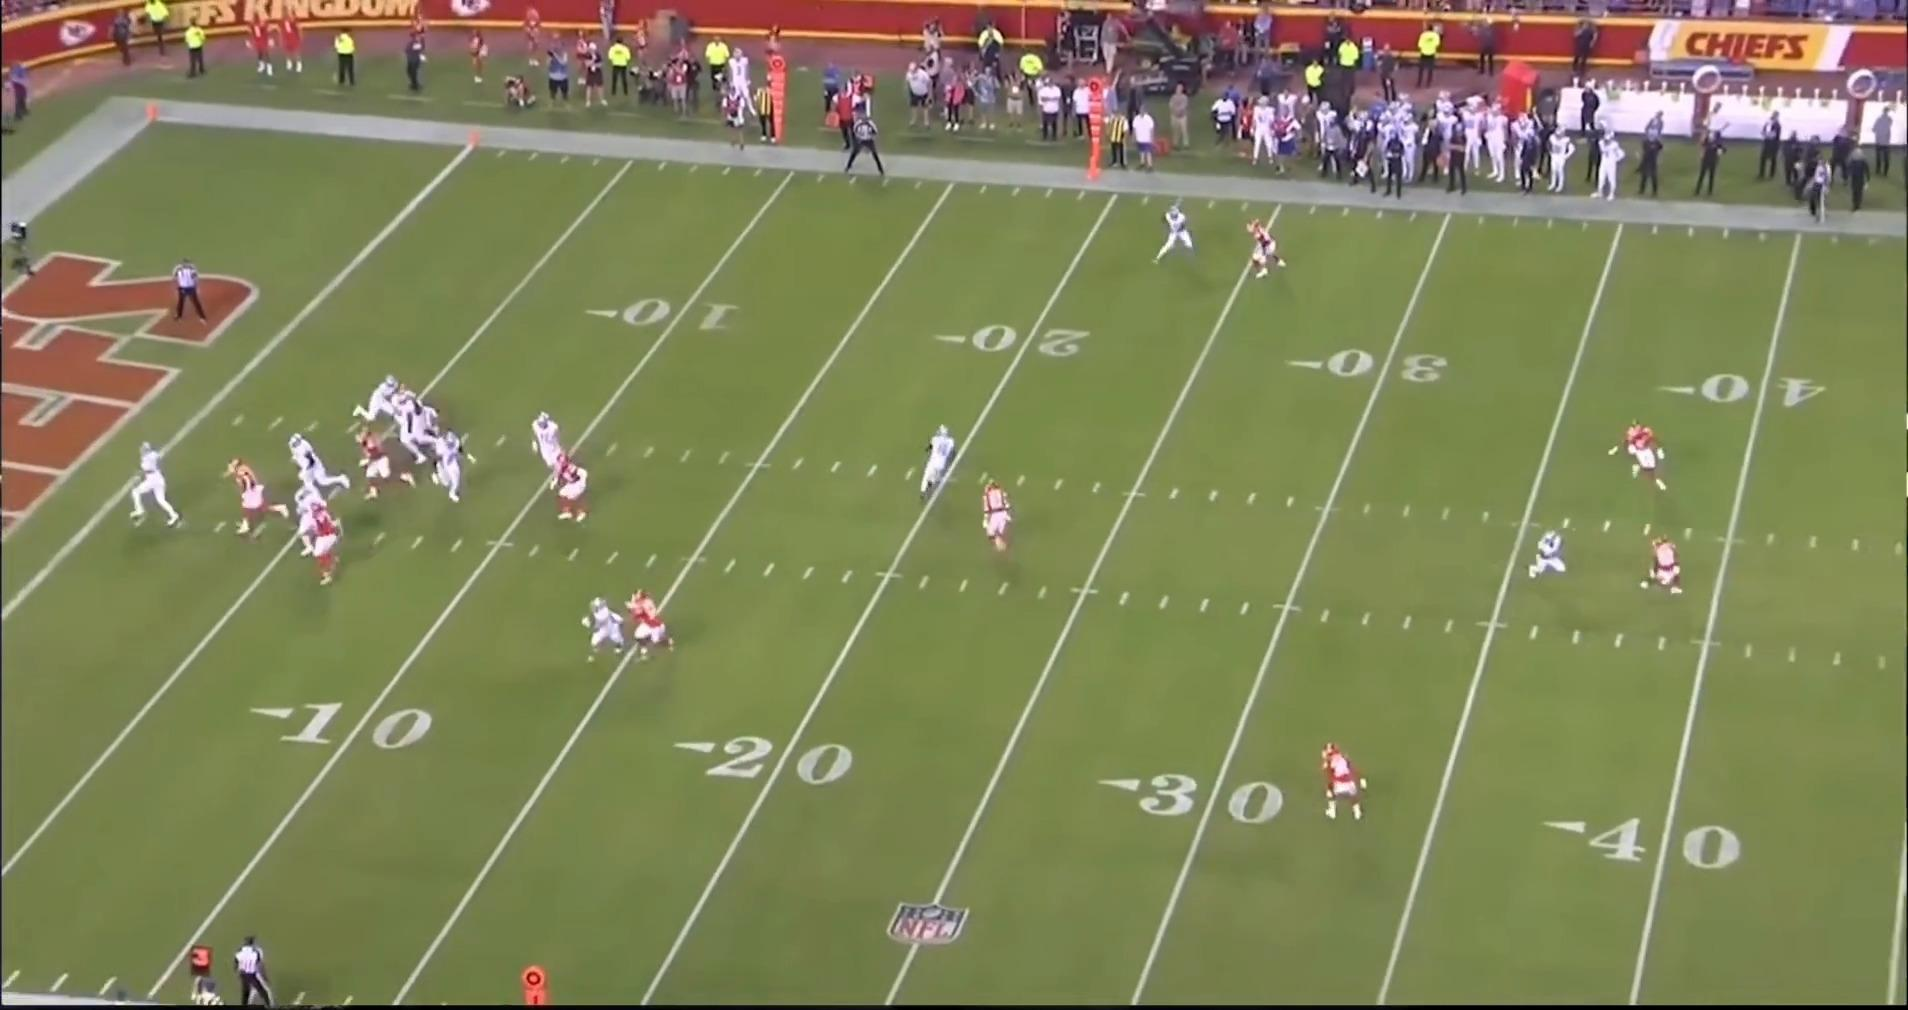defense: (231, 454, 294, 536), (1320, 739, 1375, 822), (1617, 419, 1675, 495), (353, 431, 406, 502), (628, 589, 681, 660), (981, 479, 1018, 565), (306, 504, 344, 587), (1641, 536, 1690, 599), (550, 454, 591, 525), (1246, 218, 1292, 281), (389, 386, 444, 433)
oline: (290, 428, 355, 498), (426, 429, 473, 508), (398, 395, 437, 469), (288, 483, 324, 559), (531, 414, 570, 468)
qb: (135, 440, 190, 534)
ref: (231, 932, 283, 1007), (171, 253, 216, 325), (837, 111, 885, 176)
skill: (922, 425, 970, 509), (1158, 206, 1206, 268), (582, 597, 626, 664), (1523, 528, 1570, 586), (353, 374, 401, 423)
